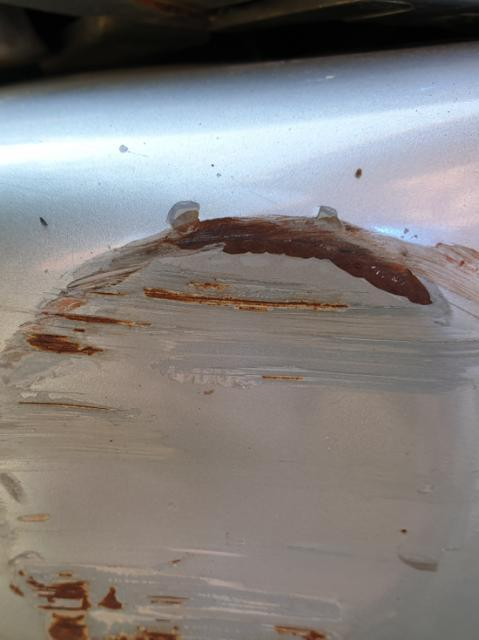Door: (0, 170, 466, 640)
